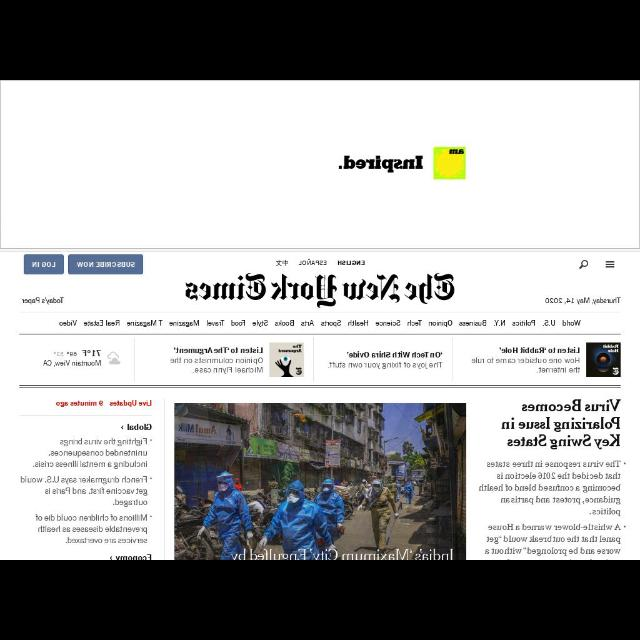icon: (106, 352, 124, 366), (605, 262, 617, 270), (580, 258, 588, 268)
image: (173, 402, 464, 560), (181, 268, 463, 310), (336, 146, 470, 182), (586, 342, 622, 376), (270, 342, 302, 376)
multitab: (1, 336, 639, 384), (1, 314, 623, 334)
spinner: (604, 260, 616, 270)
text: (476, 397, 626, 558), (18, 422, 156, 558), (325, 347, 443, 377), (469, 347, 581, 377), (168, 345, 264, 373), (37, 346, 103, 364), (50, 399, 154, 409), (540, 294, 622, 306), (274, 258, 368, 266), (18, 295, 66, 307), (76, 260, 138, 268), (166, 317, 204, 329), (125, 317, 163, 328), (82, 317, 120, 328), (426, 317, 454, 328), (347, 316, 368, 330), (459, 320, 486, 330), (510, 319, 536, 329), (372, 319, 398, 329), (32, 258, 58, 268), (272, 318, 294, 328), (560, 318, 584, 327), (204, 319, 223, 329), (228, 319, 246, 329), (402, 318, 423, 326), (252, 318, 268, 328), (492, 318, 506, 329), (322, 319, 342, 326), (58, 321, 78, 327), (542, 318, 556, 326), (301, 320, 315, 328)
textbutton: (68, 254, 142, 274), (23, 254, 61, 272)
toolbar: (1, 256, 637, 314)
